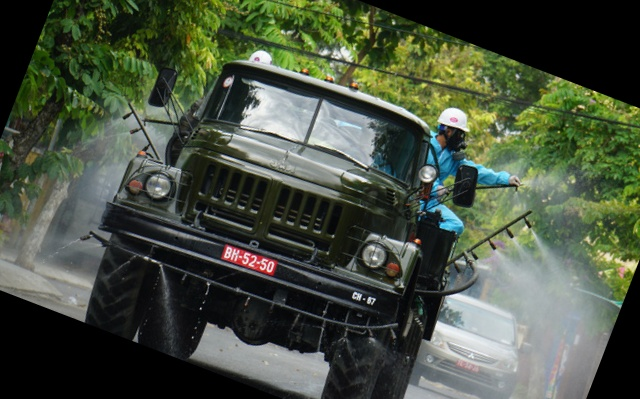plate: (214, 241, 282, 280)
